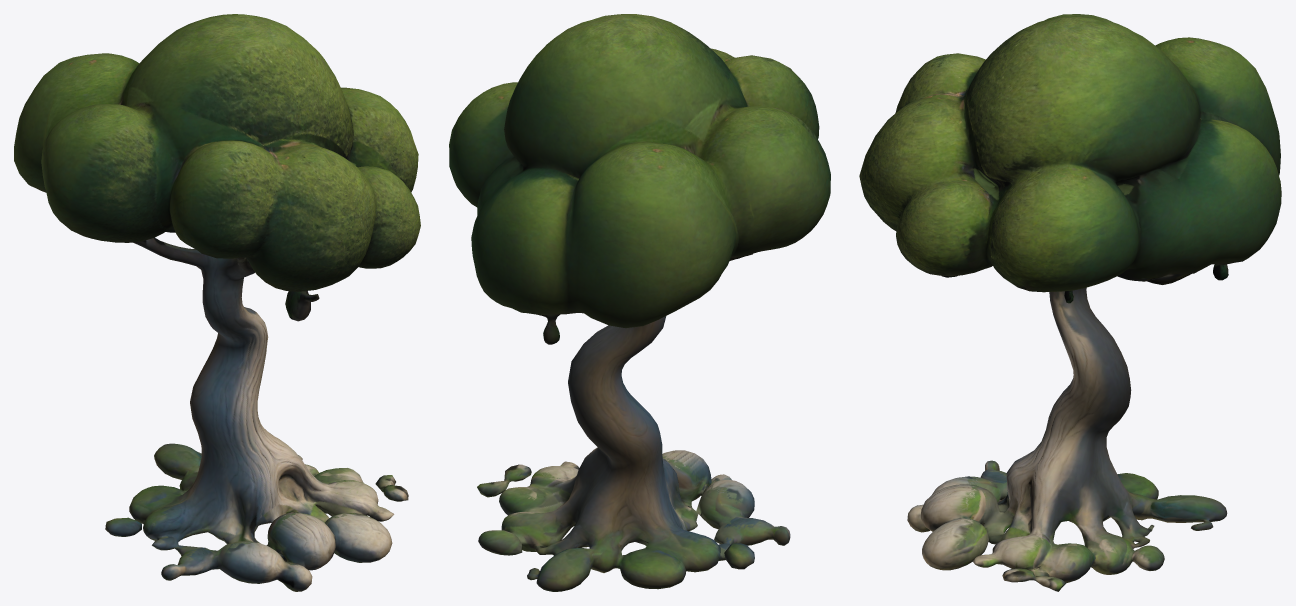
File: stylized_tree_0708021422_texture.fbx
3 renders of one model, left to right at view 1: azimuth 30°, elevation 25°; view 2: azimuth 150°, elevation 25°; view 3: azimuth 270°, elevation 25°, orthographic. The views are drawn at different scales.
Visible parts, largest first — view 1: Mesh1_Mesh1.012; view 2: Mesh1_Mesh1.012; view 3: Mesh1_Mesh1.012.
Part boxes in pixels (x1,y1,x2,y2): Mesh1_Mesh1.012: [14, 14, 420, 591]; Mesh1_Mesh1.012: [449, 14, 830, 591]; Mesh1_Mesh1.012: [859, 14, 1281, 591].
Size of the model in its own units: 144 by 199 by 149.
Materials: 1 (1 with a texture image).
